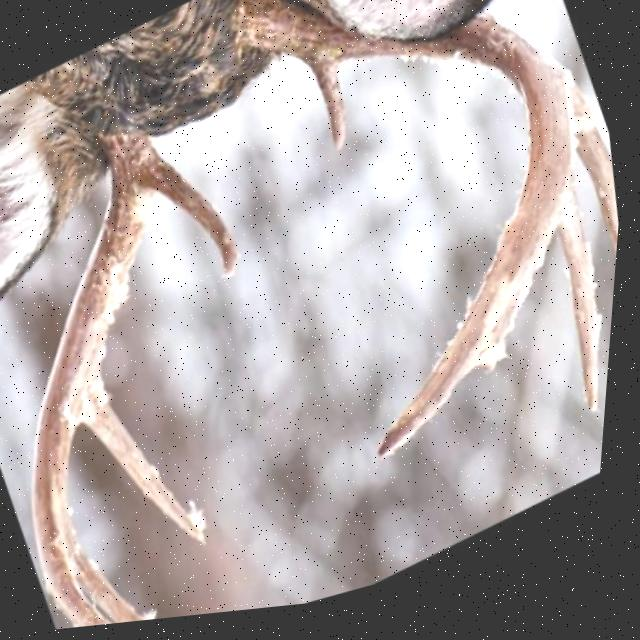L-F: (234, 0, 576, 468)
L-G1: (309, 68, 349, 158)
R-F: (36, 130, 153, 630)
R-G1: (147, 151, 242, 283)
R-G2: (88, 378, 215, 552)
